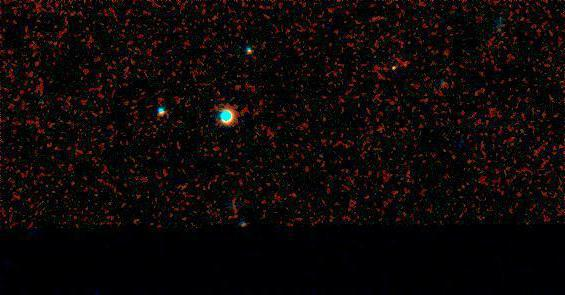star: (373, 57, 403, 87)
